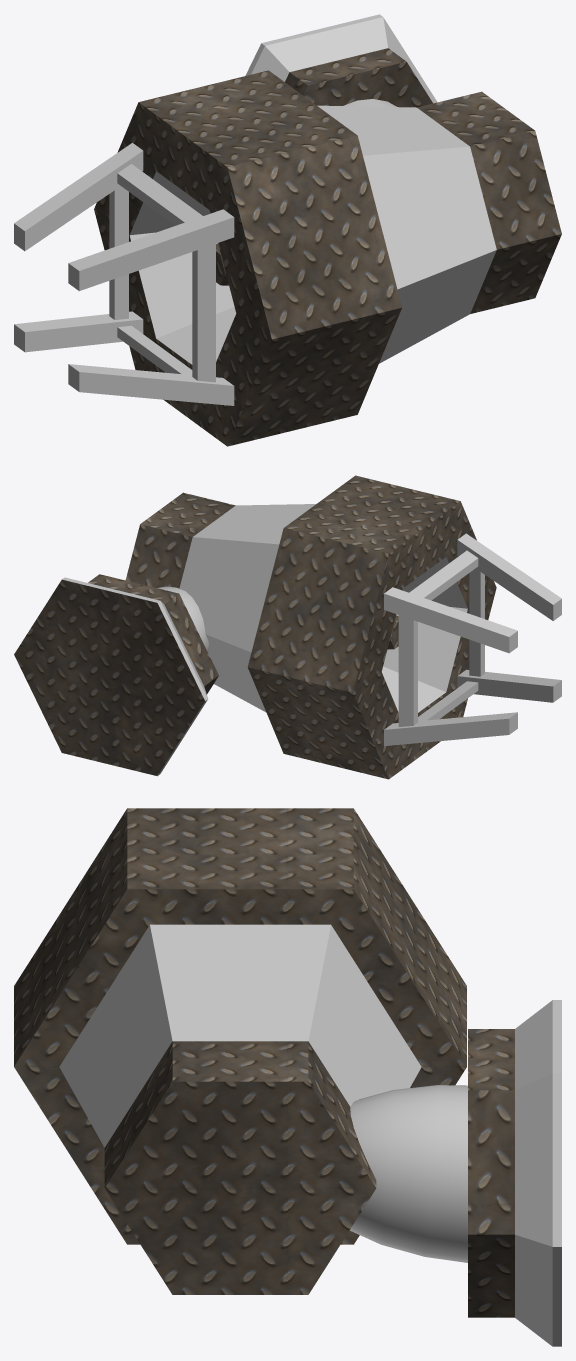
File: LaserGun.fbx
The picture shows the model from 3 angles, top to bottom: view 1: azimuth 30°, elevation 25°; view 2: azimuth 150°, elevation 25°; view 3: azimuth 270°, elevation 25°; orthographic projection. The views are drawn at different scales.
Parts seen in each view (by area): view 1: mergedBlocks; view 2: mergedBlocks; view 3: mergedBlocks.
Part boxes in pixels (bbox=[...]): mergedBlocks: bbox=[14, 14, 561, 446]; mergedBlocks: bbox=[14, 475, 561, 779]; mergedBlocks: bbox=[14, 808, 561, 1346].
Size of the model in its own units: 19.44 by 10 by 13.97.
